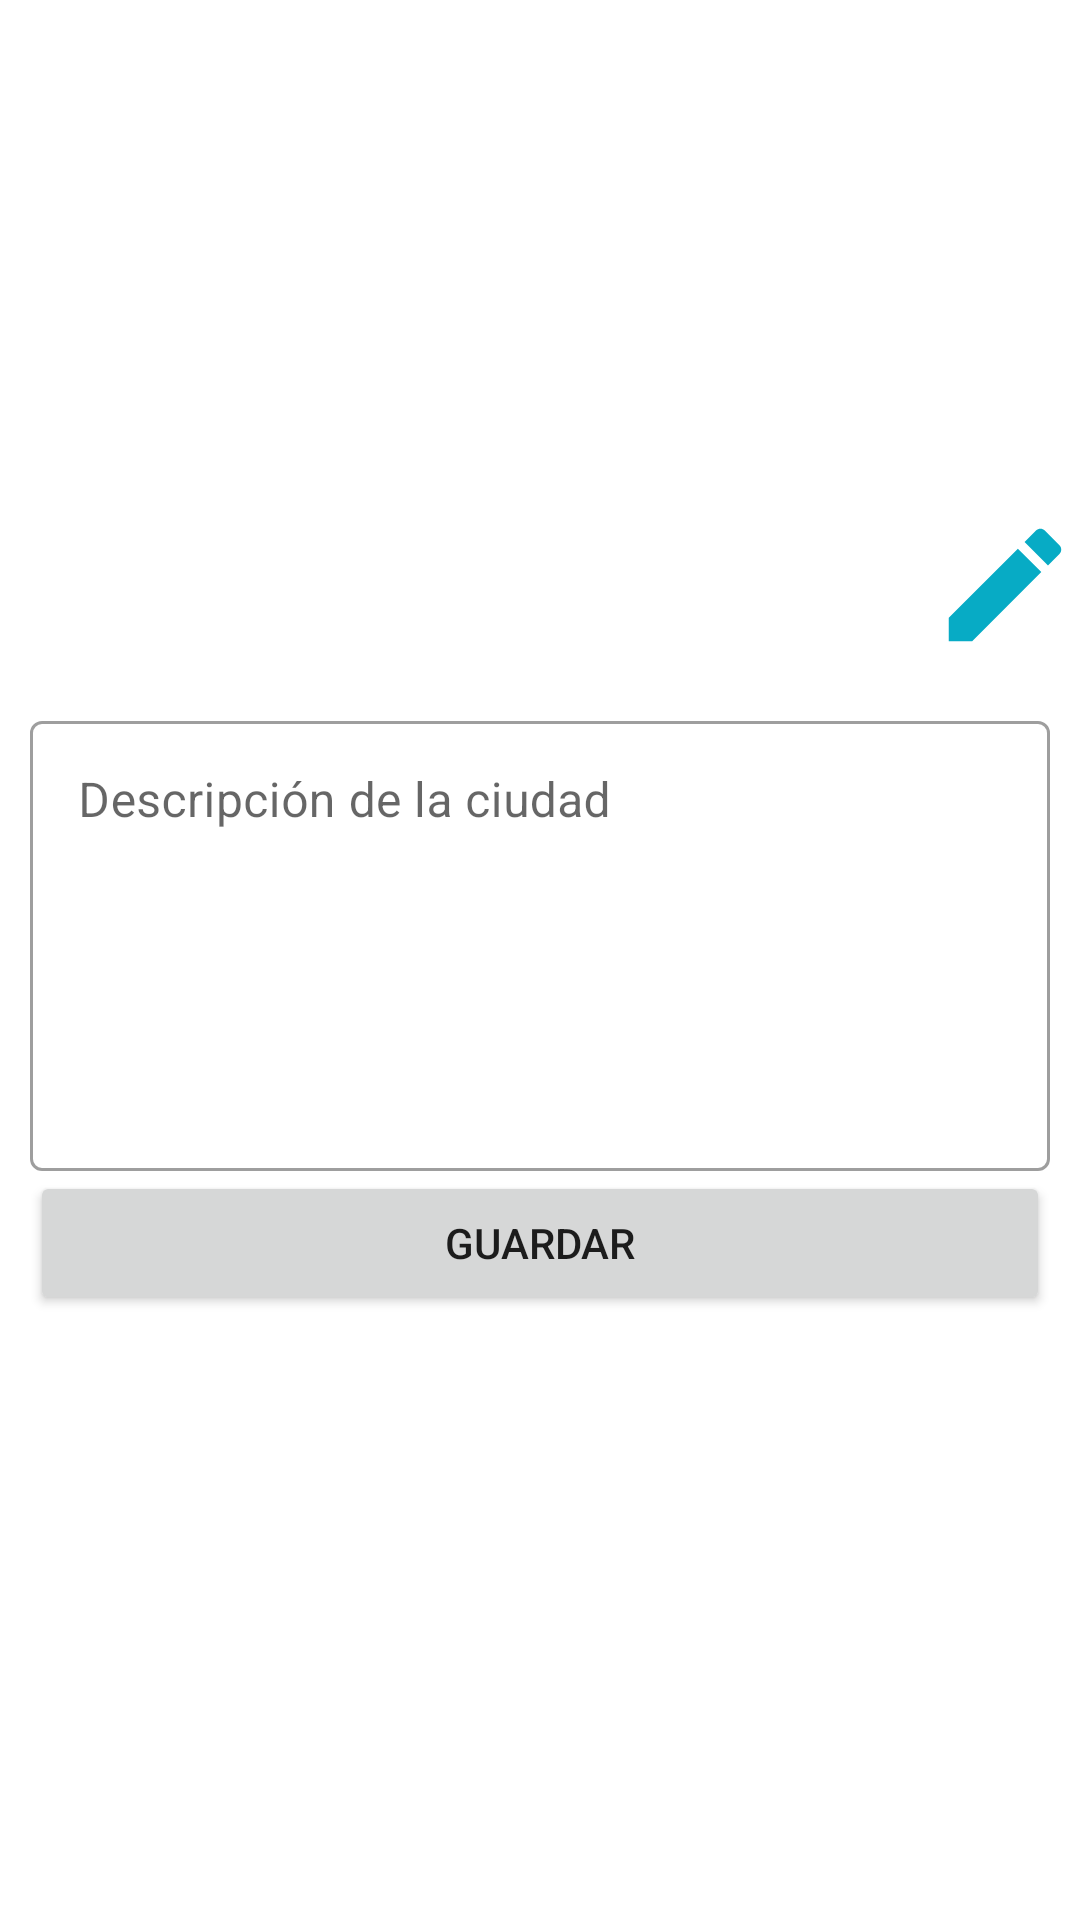

Icon click points for this 1080 × 1920 phone screenshot, format [x,y]:
edit: [1005,585]
